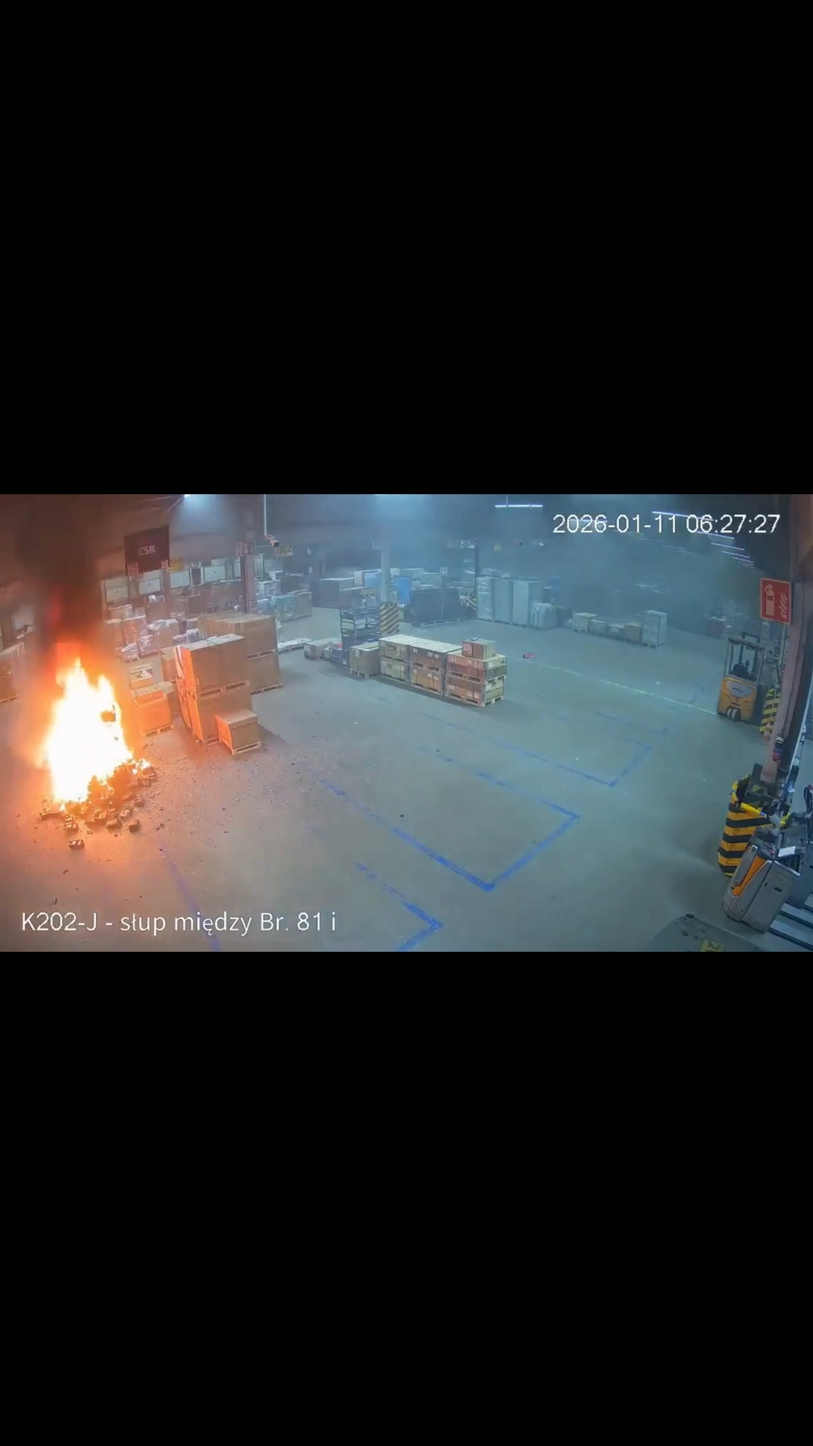fire: (20, 650, 166, 803)
